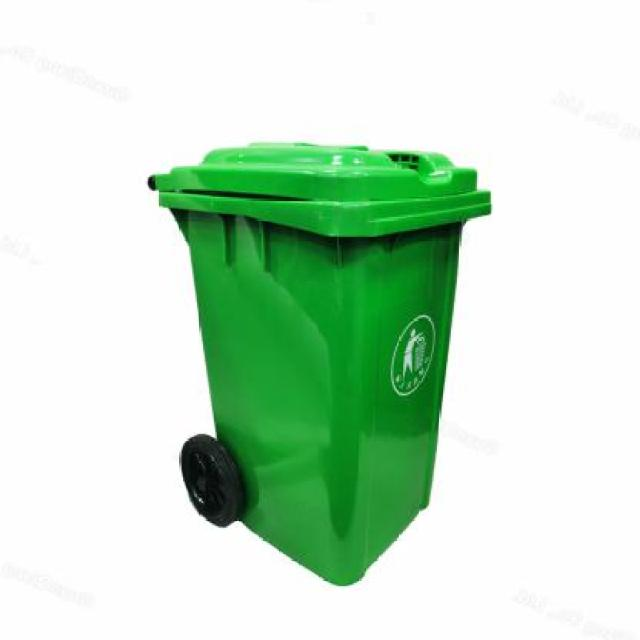garbage container: (119, 119, 506, 598)
